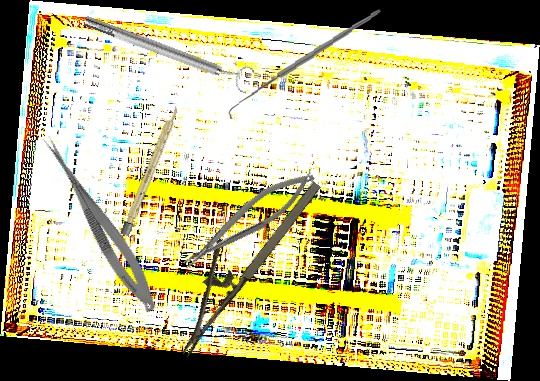Fixation Ring: (80, 5, 256, 97)
Hook Surgical: (222, 8, 388, 120)
Micro Scissor: (31, 130, 167, 318)
Needle Holder: (147, 158, 327, 358), (173, 163, 323, 275)
Scalpel Handle: (120, 104, 181, 237)
